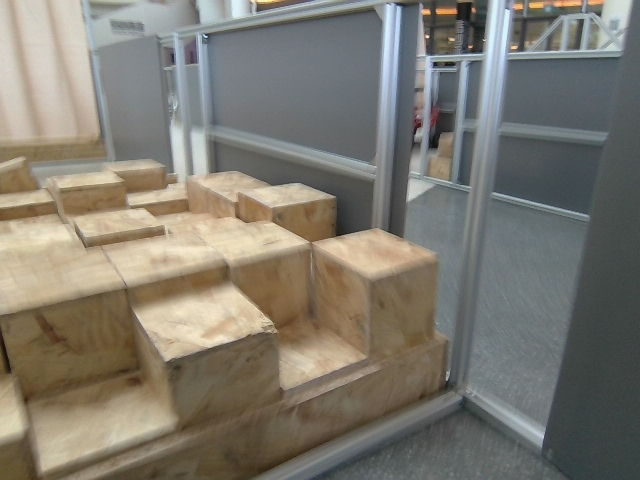curtain: (0, 0, 77, 144)
